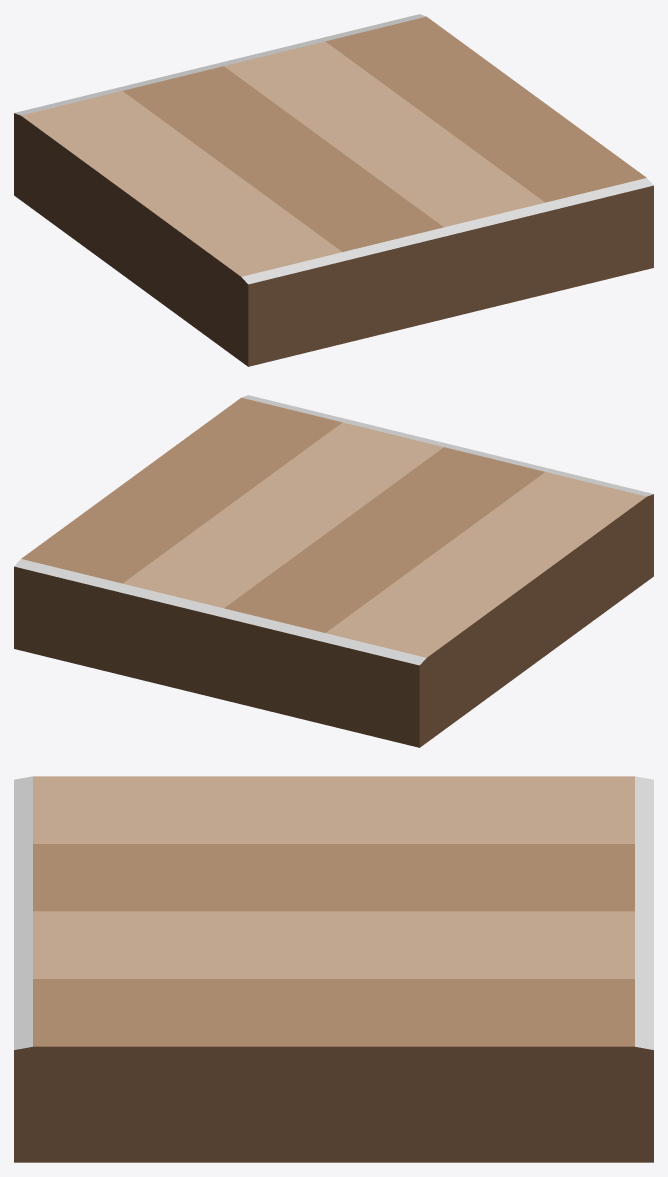
The model's file is GroundTextured.fbx.
3 views of the same model, one above another, from view 1: azimuth 30°, elevation 25°; view 2: azimuth 150°, elevation 25°; view 3: azimuth 270°, elevation 25° (orthographic). The views are drawn at different scales.
Parts seen in each view (by area): view 1: Cube; view 2: Cube; view 3: Cube.
Boxes of the visible parts, x1,y1,x2,y2 form: Cube: (14, 14, 653, 366); Cube: (14, 395, 653, 747); Cube: (14, 776, 653, 1162).
Bounding box in the file's own units: 1000 × 200 × 1000.
